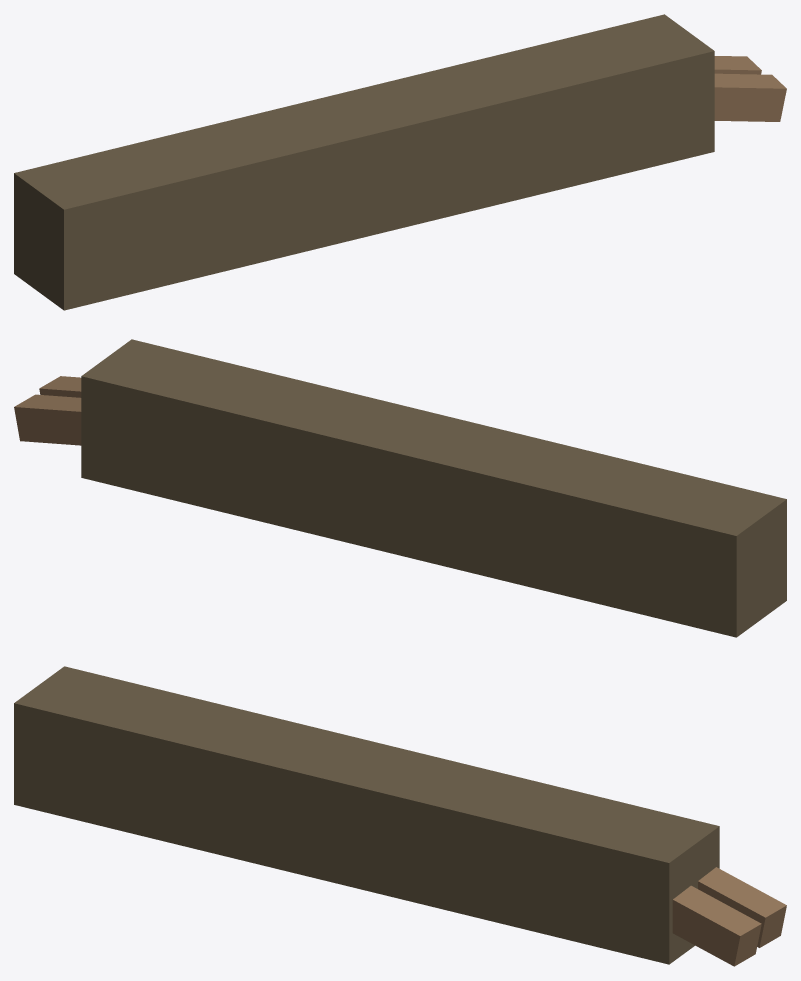
Rendered from qc_broken_beam.obj.
3 views of the same model, one above another, from view 1: azimuth 30°, elevation 25°; view 2: azimuth 150°, elevation 25°; view 3: azimuth 330°, elevation 25° (orthographic).
Visible parts, largest first — view 1: qc_broken_beam; view 2: qc_broken_beam; view 3: qc_broken_beam.
Part boxes in pixels (bbox=[...]): qc_broken_beam: bbox=[14, 14, 786, 310]; qc_broken_beam: bbox=[14, 339, 786, 637]; qc_broken_beam: bbox=[14, 666, 786, 966].
Bounding box in the file's own units: 1.51 × 0.2 × 0.183.
